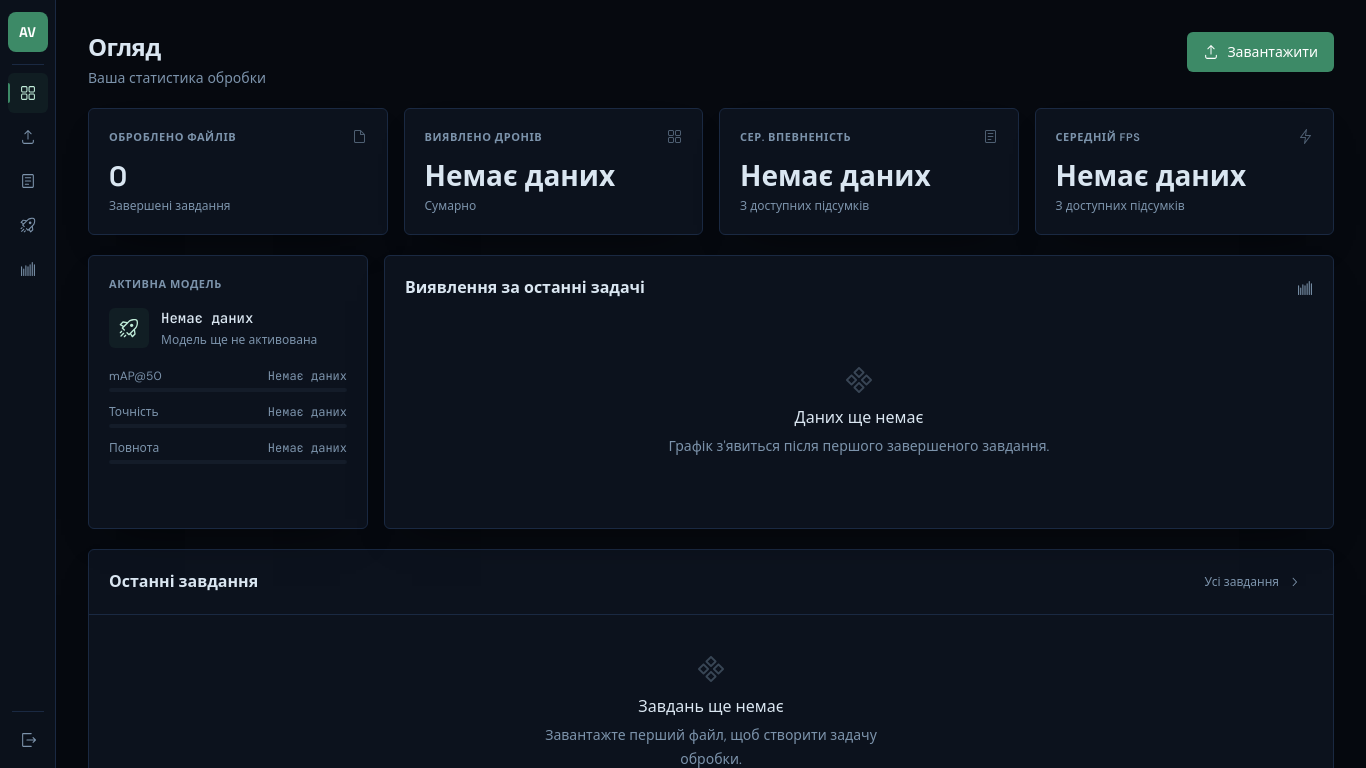
Scenario: Phase 24 auth routes › clears token on logout
Expected: the heading "Огляд" is shown, left=88, top=32, right=160, bottom=63
Click the button named "Вийти": click(28, 740) left=8, top=720, right=48, bottom=760
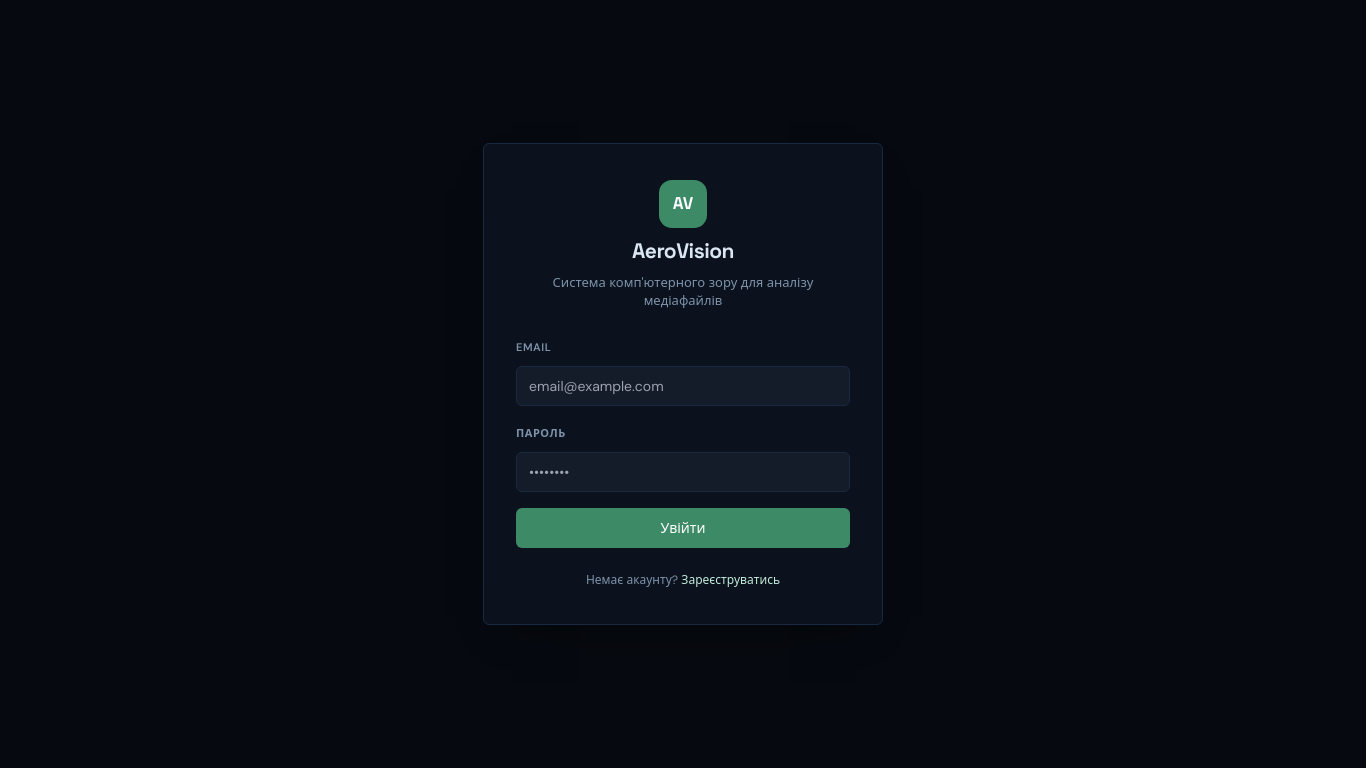
Result: the heading "AeroVision" is shown at left=632, top=238, right=734, bottom=264
